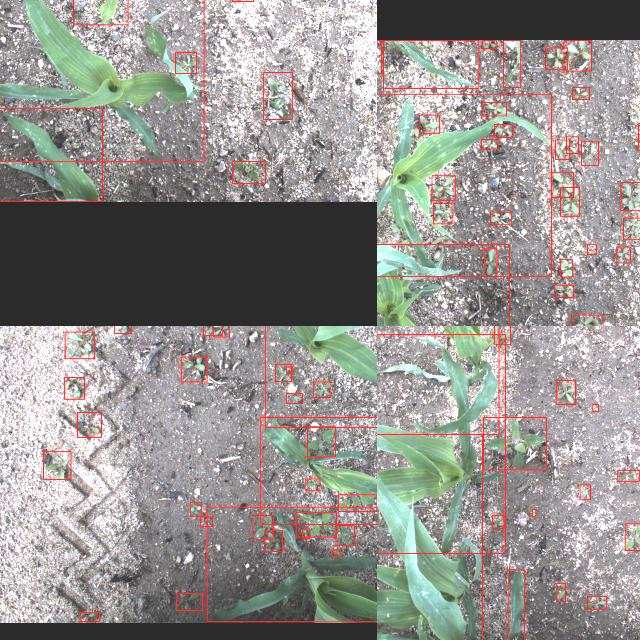crop: (0, 0, 204, 160), (377, 93, 551, 276), (377, 333, 505, 552), (377, 434, 483, 640), (207, 506, 377, 621), (377, 326, 499, 433), (260, 416, 377, 524), (265, 326, 377, 426), (377, 244, 509, 326), (0, 107, 103, 201), (383, 39, 479, 87), (73, 0, 128, 24), (508, 569, 524, 640), (504, 40, 520, 86)
weed: (484, 417, 546, 469), (264, 72, 292, 118), (296, 512, 336, 536), (564, 40, 592, 70), (65, 330, 95, 358), (307, 426, 335, 456), (43, 451, 71, 479), (232, 161, 266, 183), (339, 494, 377, 512), (181, 356, 207, 382), (560, 187, 580, 216), (77, 412, 101, 436), (432, 174, 454, 200), (621, 181, 640, 210), (551, 172, 573, 196), (545, 46, 567, 68), (252, 515, 272, 539), (556, 379, 576, 403), (64, 376, 84, 398), (624, 523, 640, 550), (176, 52, 197, 72), (433, 202, 452, 224), (176, 594, 202, 610), (265, 530, 283, 552), (582, 141, 598, 165), (623, 217, 640, 239), (419, 114, 439, 132), (336, 525, 354, 545), (571, 315, 603, 326), (484, 248, 496, 276), (482, 101, 506, 115), (554, 284, 574, 298), (555, 139, 569, 159), (275, 364, 291, 381), (314, 381, 331, 397), (494, 326, 510, 343), (491, 212, 512, 224), (588, 596, 606, 610), (616, 246, 630, 262), (494, 124, 512, 136), (572, 86, 590, 98), (618, 470, 638, 480), (560, 260, 572, 276), (566, 136, 578, 152), (80, 612, 98, 622), (556, 583, 566, 601), (203, 326, 222, 335), (190, 502, 202, 516), (306, 478, 320, 490), (482, 138, 498, 148), (286, 393, 302, 403), (580, 484, 590, 500), (492, 514, 503, 528), (213, 326, 229, 335), (201, 516, 213, 526), (482, 39, 496, 47), (114, 326, 131, 332), (588, 244, 596, 254), (302, 528, 310, 538), (637, 133, 640, 150), (332, 550, 340, 556), (593, 404, 599, 411), (287, 366, 293, 372), (532, 508, 536, 516)
